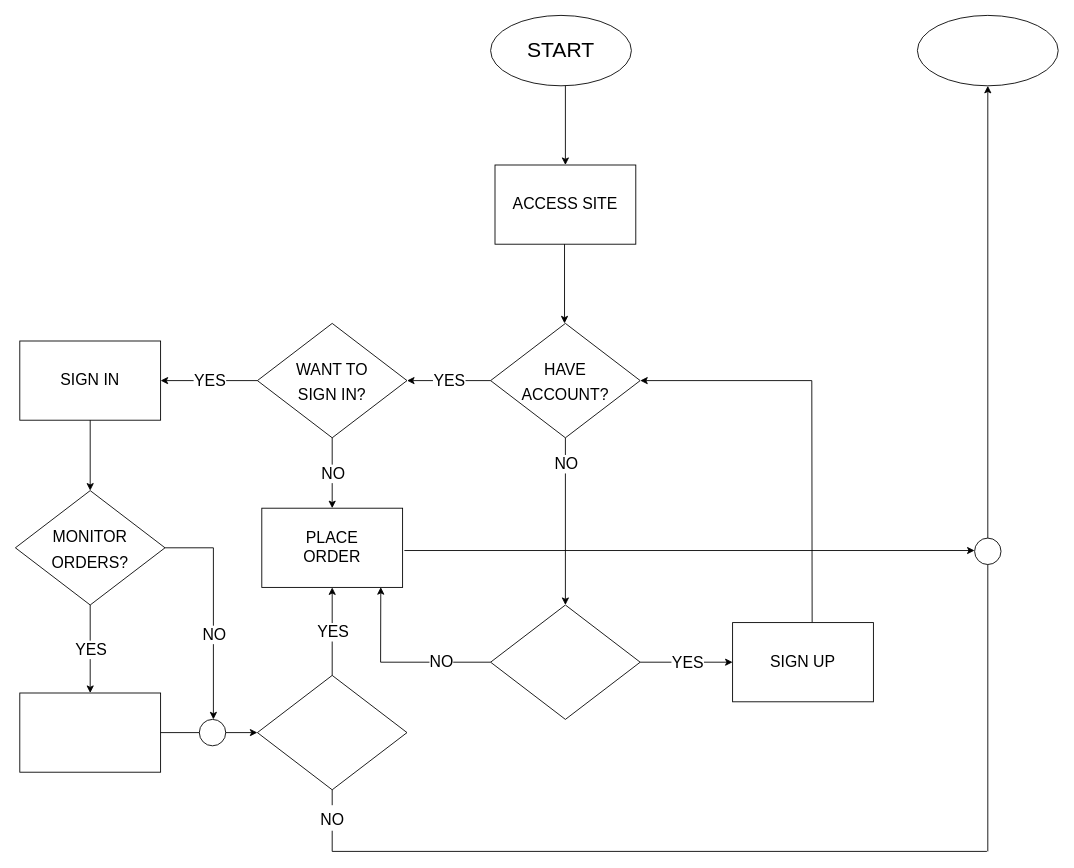
This 1074x868 diagram has some shape labels left out. Each missing label, with the centre of its shape:
"END" belongs at point 987,50.
"MONITOR ORDERS" belongs at point 90,732.
"PLACE ORDER?" belongs at point 332,732.
"SIGN UP?" belongs at point 565,661.
